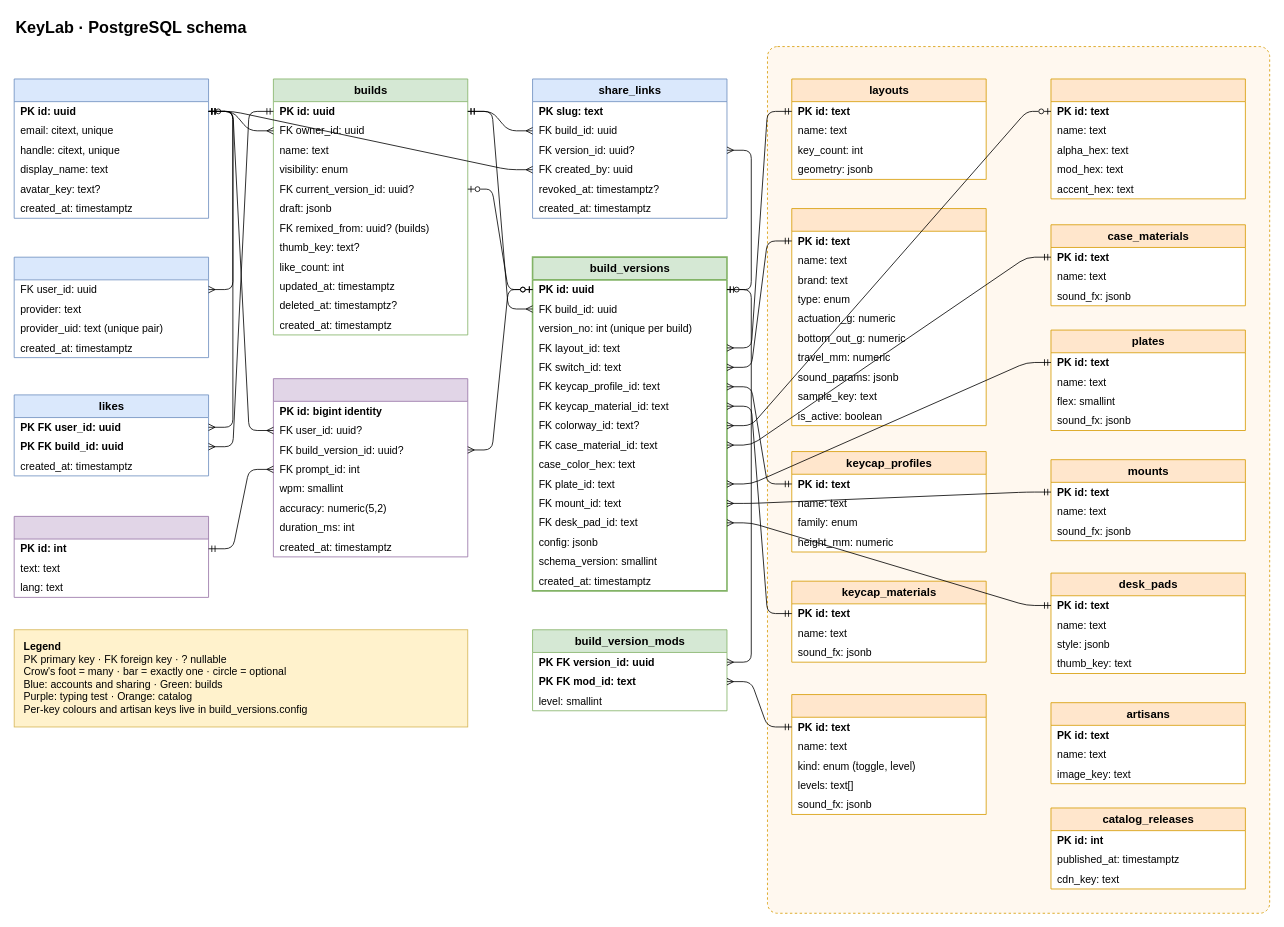
Some shapes in this 1284 by 927 pixel diagram are drawn without their labels. Here are the shapes that lost their labels. From the top down, the box of each, then its label:
(13, 78, 209, 218): users
(1050, 78, 1245, 199): colorways
(13, 256, 209, 358): auth_identities
(791, 208, 986, 426): switches
(273, 378, 468, 557): typing_results
(767, 46, 1270, 913): Catalog · managed by the KeyLab team, read-only to users
(13, 516, 209, 597): typing_prompts
(791, 694, 986, 814): mods
